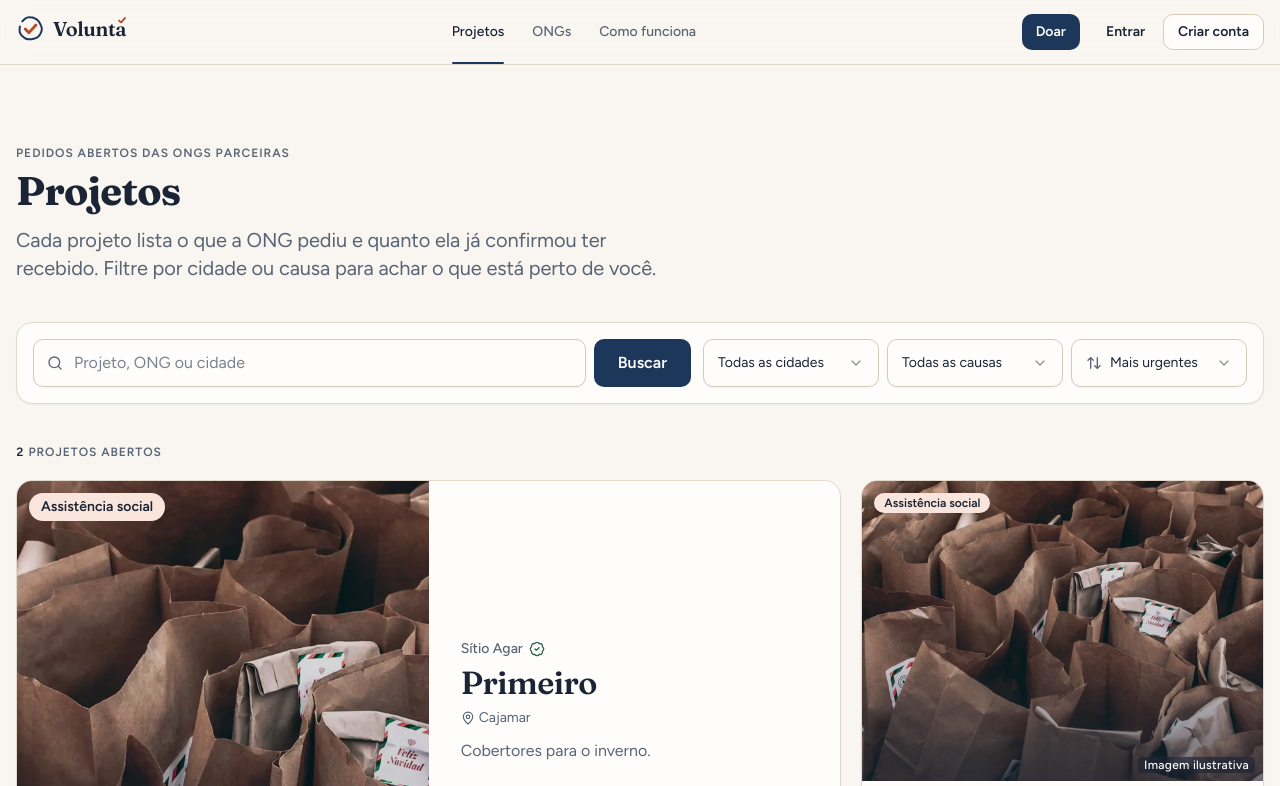
ProjetosPage › destaca o primeiro projeto como card largo só na primeira página sem filtros
Expected: the heading "Primeiro" is shown, [461,663,597,702]
Type "Primeiro" into the search field named "Buscar projetos" at (309, 363), box [33,339,586,387]
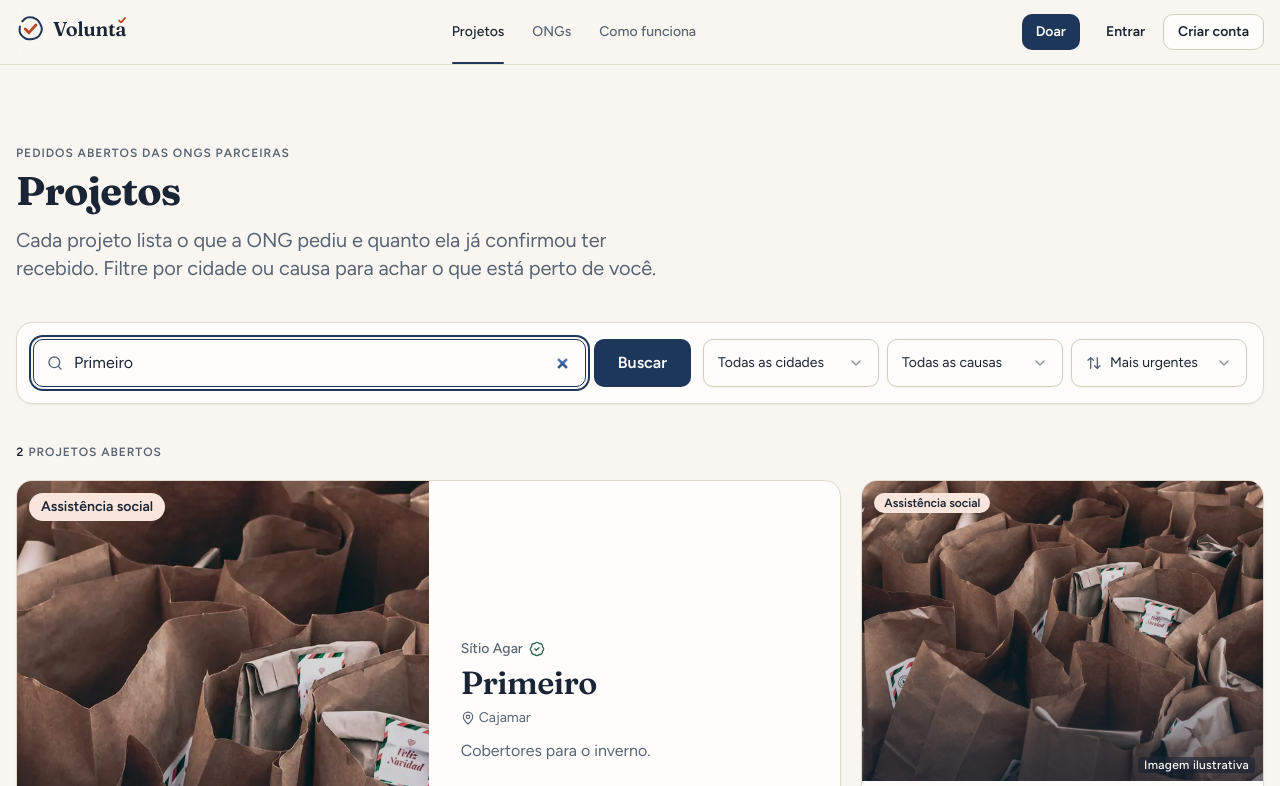
Click the button "Buscar" at (642, 363), box [594,339,691,387]
(page scrolled)
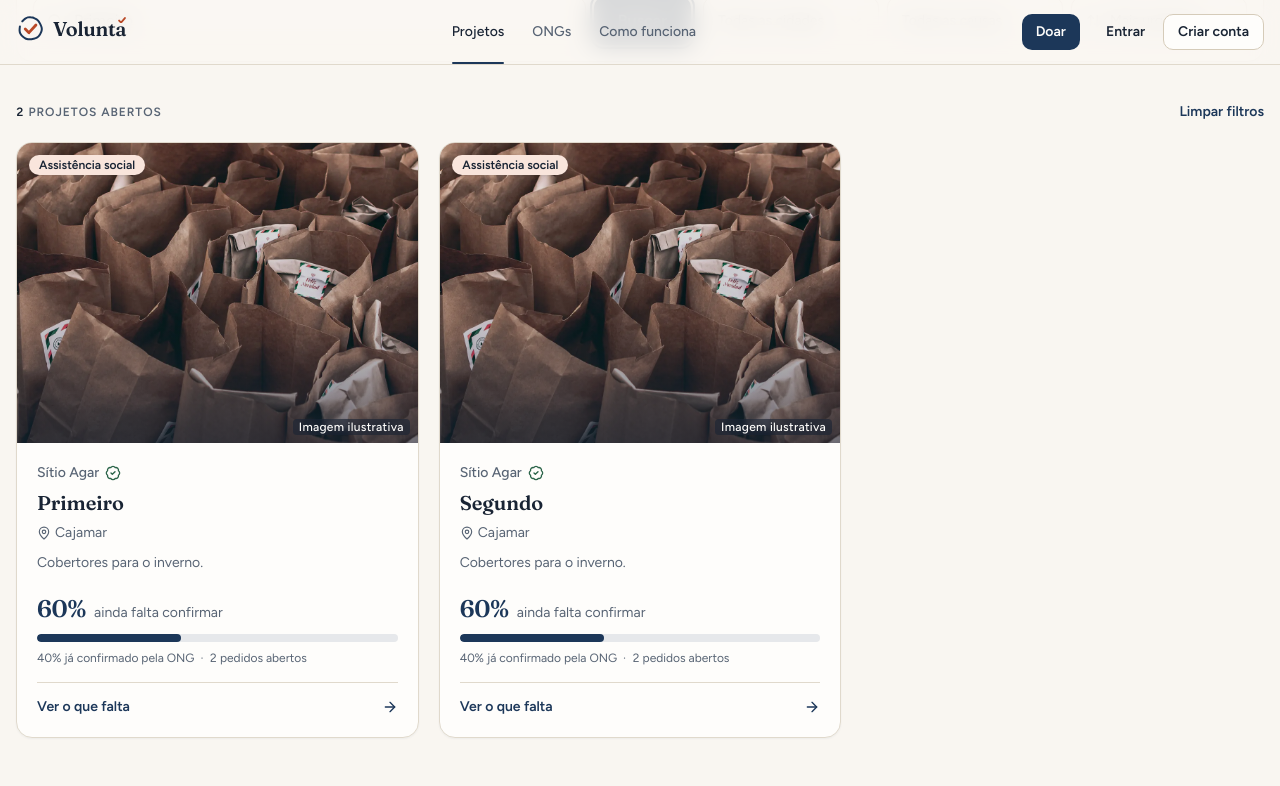
Now the button "Limpar filtros" is shown, box [1179,102,1264,122]
